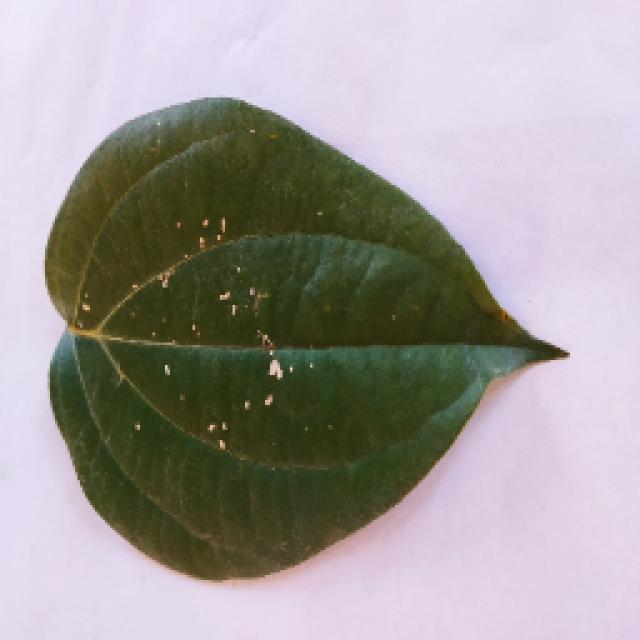pollu-disease: (23, 105, 595, 603)
